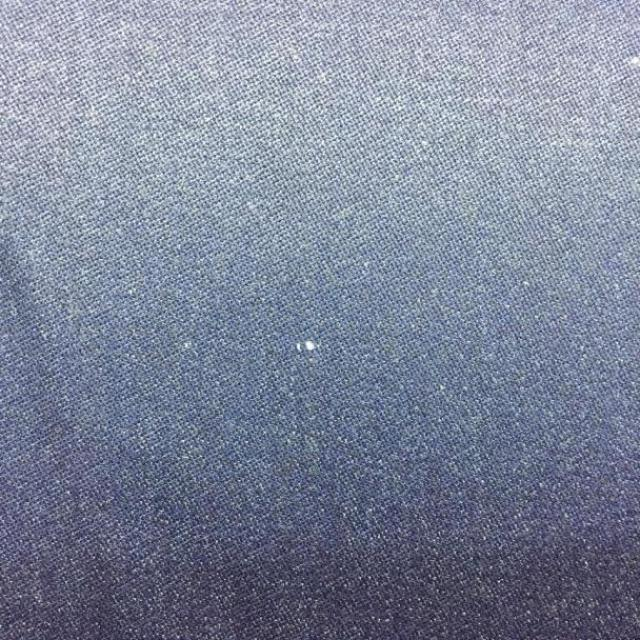Knot: (297, 341, 318, 352)
